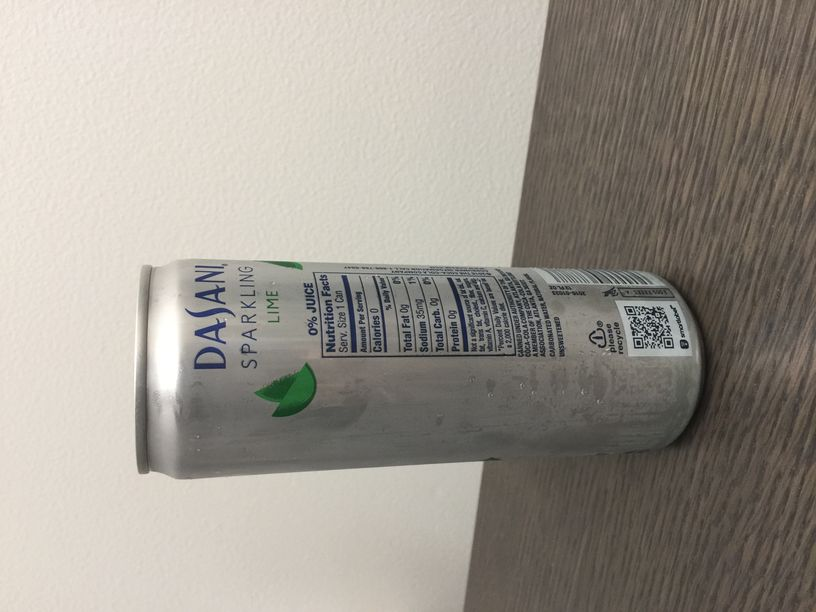lime: (127, 250, 712, 487)
